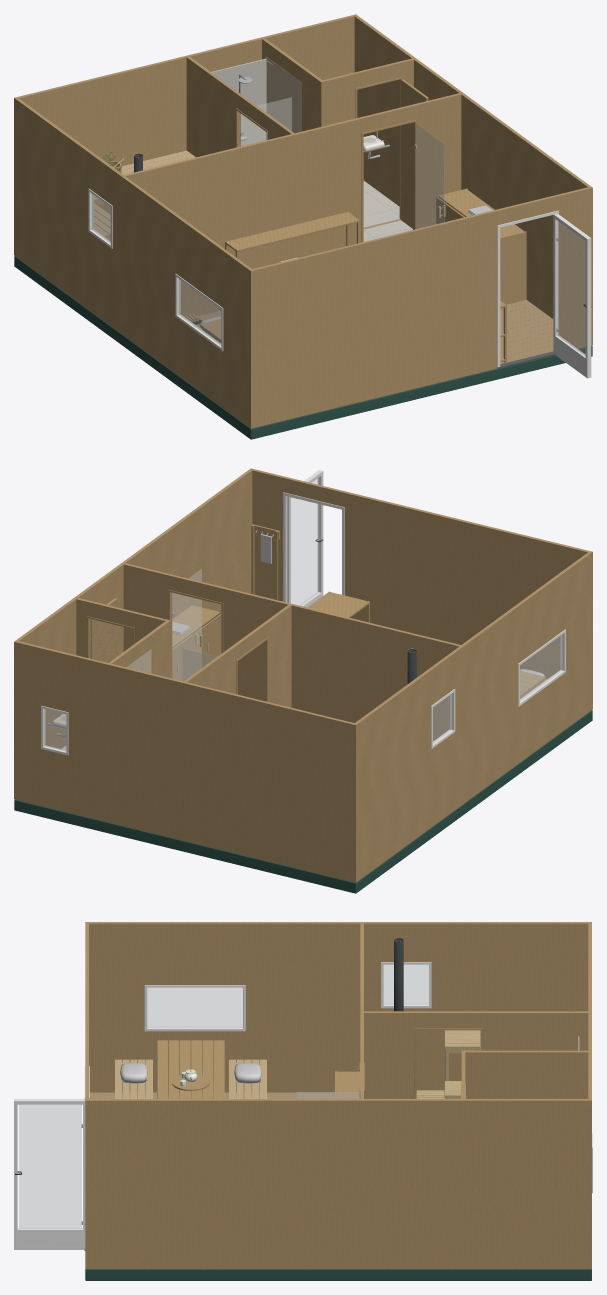
3 renders of one model, top to bottom at view 1: azimuth 30°, elevation 25°; view 2: azimuth 150°, elevation 25°; view 3: azimuth 270°, elevation 25°, orthographic. The views are drawn at different scales.
Parts seen in each view (by area): view 1: DP07-W01, DP07-W03, DP07-W06, DP07-W02, DP07-W04, Dimensioned foundation, Hinge_DP07-D04, DP07-W05, Shower tray and wall mounted column, DP07-W07, Hinge_DP07-D02, DP07-O10 (+12 smaller); view 2: DP07-W02, DP07-W03, DP07-W01, DP07-W06, DP07-W04, Dimensioned foundation, DP07-W05, Hinge_DP07-D04, Hinge_DP07-D02, Ш1 storage, Window p7_i2084, DP07-W08 (+10 smaller); view 3: DP07-W04, DP07-W03, Hinge_DP07-D04, DP07-W05, Dimensioned foundation, DP07-W07, Window p7_i2084, С1 table, Window p7_i2082, Л1 bench, Л2 bench, DP07-W01 (+7 smaller).
Boxes of the visible parts, x1=… form: DP07-W01: x1=249, y1=186, x2=592, y2=428; DP07-W03: x1=15, y1=98, x2=251, y2=426; DP07-W06: x1=124, y1=93, x2=461, y2=316; DP07-W02: x1=14, y1=14, x2=357, y2=255; DP07-W04: x1=354, y1=15, x2=590, y2=318; Dimensioned foundation: x1=14, y1=256, x2=592, y2=439; Hinge_DP07-D04: x1=553, y1=214, x2=591, y2=378; DP07-W05: x1=186, y1=56, x2=293, y2=157; Shower tray and wall mounted column: x1=211, y1=57, x2=301, y2=146; DP07-W07: x1=262, y1=38, x2=324, y2=132; Hinge_DP07-D02: x1=414, y1=122, x2=445, y2=228; DP07-O10: x1=436, y1=188, x2=526, y2=304; DP07-W02: x1=14, y1=640, x2=357, y2=882; DP07-W03: x1=355, y1=552, x2=591, y2=880; DP07-W01: x1=249, y1=468, x2=592, y2=709; DP07-W06: x1=123, y1=563, x2=460, y2=741; DP07-W04: x1=16, y1=469, x2=252, y2=748; Dimensioned foundation: x1=14, y1=710, x2=592, y2=893; DP07-W05: x1=184, y1=604, x2=291, y2=707; Hinge_DP07-D04: x1=287, y1=470, x2=323, y2=607; Hinge_DP07-D02: x1=172, y1=569, x2=202, y2=680; Ш1 storage: x1=172, y1=614, x2=221, y2=680; Window p7_i2084: x1=518, y1=629, x2=565, y2=706; DP07-W08: x1=76, y1=598, x2=167, y2=657; DP07-W04: x1=89, y1=1099, x2=588, y2=1268; DP07-W03: x1=89, y1=922, x2=588, y2=1091; Hinge_DP07-D04: x1=14, y1=1099, x2=84, y2=1249; DP07-W05: x1=364, y1=1011, x2=588, y2=1098; Dimensioned foundation: x1=85, y1=1092, x2=591, y2=1280; DP07-W07: x1=461, y1=1050, x2=588, y2=1098; Window p7_i2084: x1=144, y1=985, x2=245, y2=1031; С1 table: x1=157, y1=1040, x2=224, y2=1098; Window p7_i2082: x1=381, y1=962, x2=431, y2=1008; Л1 bench: x1=229, y1=1059, x2=266, y2=1098; Л2 bench: x1=115, y1=1059, x2=152, y2=1098; DP07-W01: x1=85, y1=922, x2=88, y2=1268.
Bounding box in the file's own units: 5.01 × 2.36 × 6.85.
33 materials, 14 textured.
